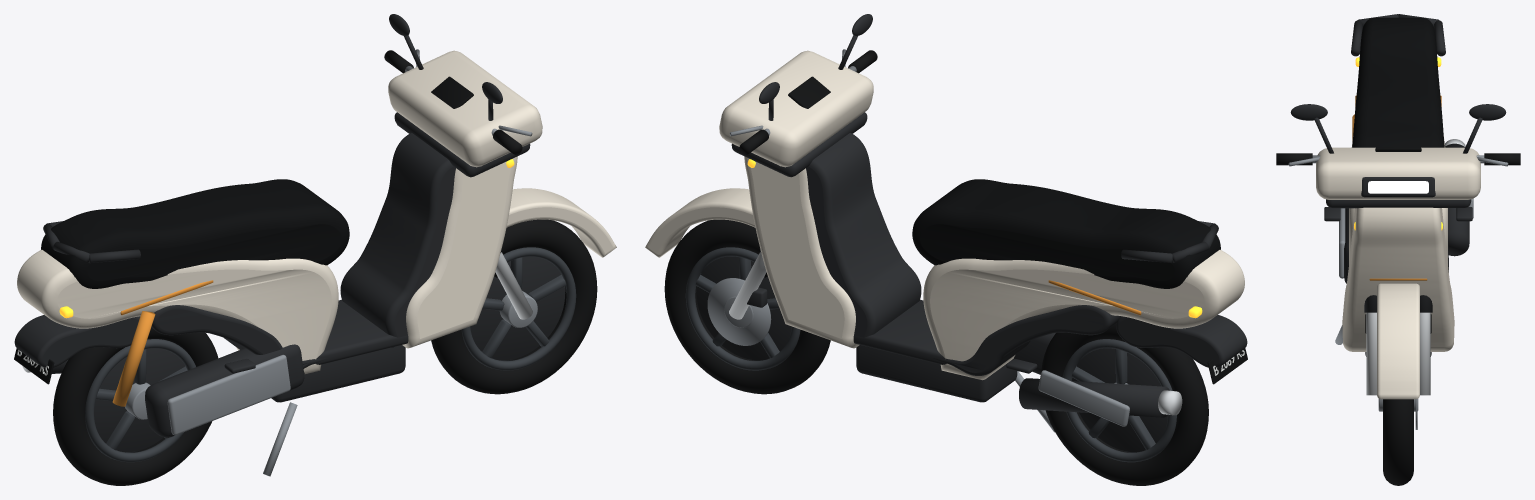
File: ojek.glb
3 renders of one model, left to right at view 1: azimuth 30°, elevation 25°; view 2: azimuth 150°, elevation 25°; view 3: azimuth 270°, elevation 25°, orthographic. The views are drawn at different scales.
Visible parts, largest first — view 1: BodiBelakang, Behel0, Jok, RodaDepan_Ban, RodaBelakang_Ban, PelindungKnalpot, RodaDepan_Jari0, RodaDepan_Dalam, RodaBelakang_Jari0, RodaBelakang_Dalam, AksenDepan, PelatBelakang (+4 smaller); view 2: BodiBelakang, Behel0, Jok, RodaBelakang_Ban, RodaDepan_Ban, RodaBelakang_Jari0, RodaDepan_Jari0, RodaBelakang_Dalam, RodaDepan_Dalam, RodaDepan_Cakram, PelindungKnalpot, Garpu1 (+2 smaller); view 3: BodiBelakang, Jok, Behel0, RodaDepan_Ban, Garpu1, PelindungKnalpot, Grip1, LampuDepan, PelatBelakang.
Boxes of the visible parts, box(x1,y1,x2,y2) form: BodiBelakang: box(17, 50, 616, 373); Behel0: box(14, 14, 530, 437); Jok: box(41, 179, 349, 288); RodaDepan_Ban: box(431, 219, 597, 394); RodaBelakang_Ban: box(53, 327, 218, 485); PelindungKnalpot: box(167, 49, 532, 476); RodaDepan_Jari0: box(461, 247, 576, 370); RodaDepan_Dalam: box(470, 256, 565, 360); RodaBelakang_Jari0: box(85, 339, 195, 462); RodaBelakang_Dalam: box(94, 348, 185, 452); AksenDepan: box(112, 280, 213, 406); PelatBelakang: box(14, 76, 497, 384); BodiBelakang: box(645, 50, 1244, 380); Behel0: box(731, 14, 1247, 417); Jok: box(912, 179, 1220, 288); RodaBelakang_Ban: box(1041, 323, 1208, 485); RodaDepan_Ban: box(664, 219, 830, 394); RodaBelakang_Jari0: box(1062, 339, 1176, 462); RodaDepan_Jari0: box(685, 247, 800, 370); RodaBelakang_Dalam: box(1073, 348, 1167, 452); RodaDepan_Dalam: box(696, 256, 791, 360); RodaDepan_Cakram: box(707, 278, 771, 345); PelindungKnalpot: box(729, 49, 1129, 432); Garpu1: box(729, 252, 1182, 415); BodiBelakang: box(1316, 136, 1480, 399); Jok: box(1352, 17, 1444, 147); Behel0: box(1290, 14, 1506, 356); RodaDepan_Ban: box(1383, 399, 1413, 485); Garpu1: box(1366, 139, 1465, 395); PelindungKnalpot: box(1288, 155, 1508, 344); Grip1: box(1276, 153, 1520, 165); LampuDepan: box(1368, 181, 1428, 193); PelatBelakang: box(1365, 147, 1431, 333).
Bounding box in the file's own units: 1.95 × 1.14 × 0.74.
